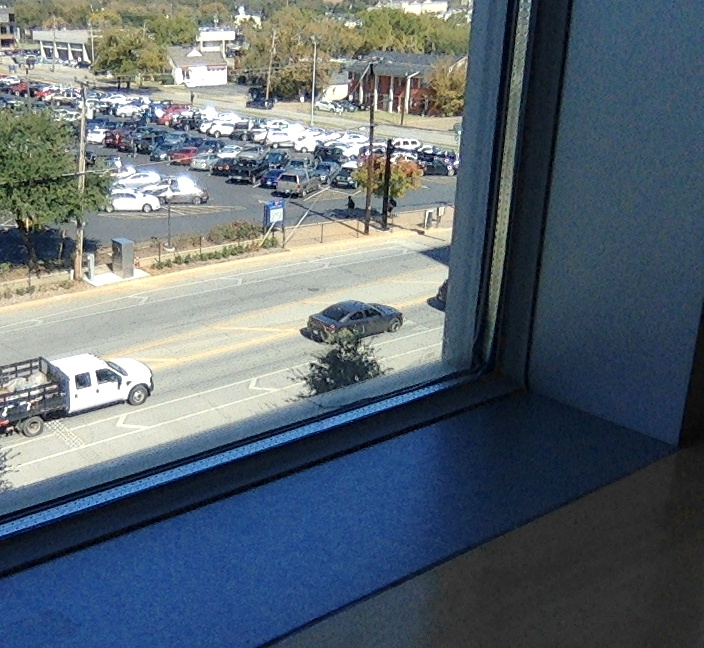car: (300, 300, 404, 348)
